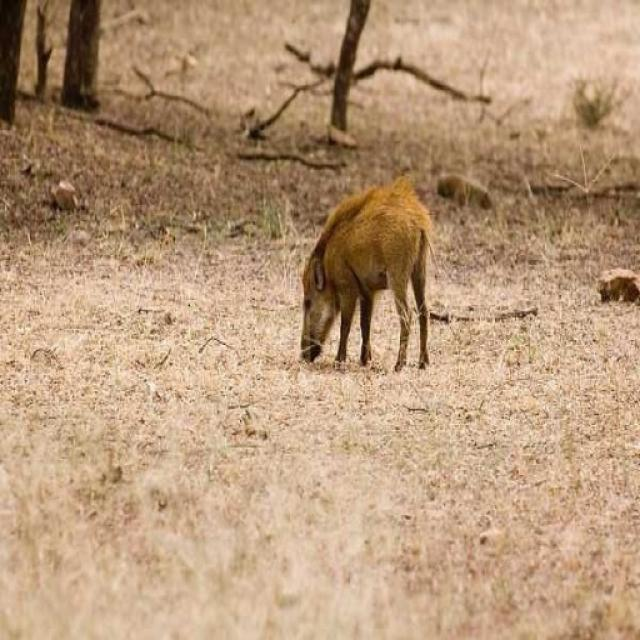pig: (270, 169, 442, 388)
